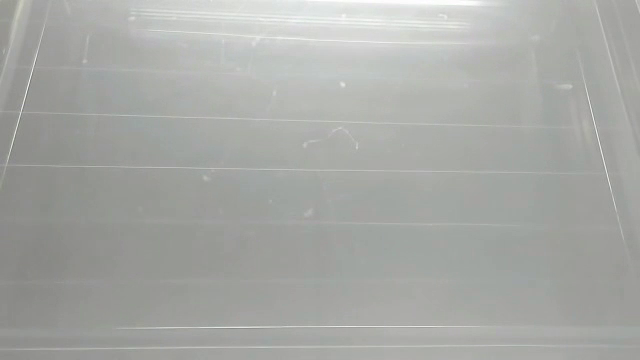alpha: (554, 80, 574, 94)
